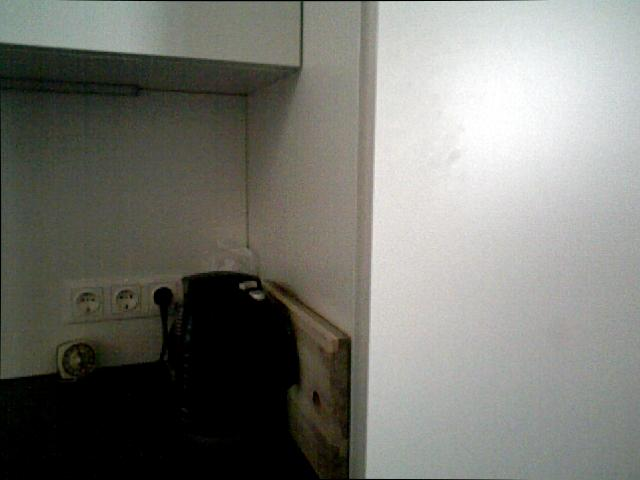giraffe: (54, 337, 101, 382)
hot dog: (356, 0, 639, 479)
